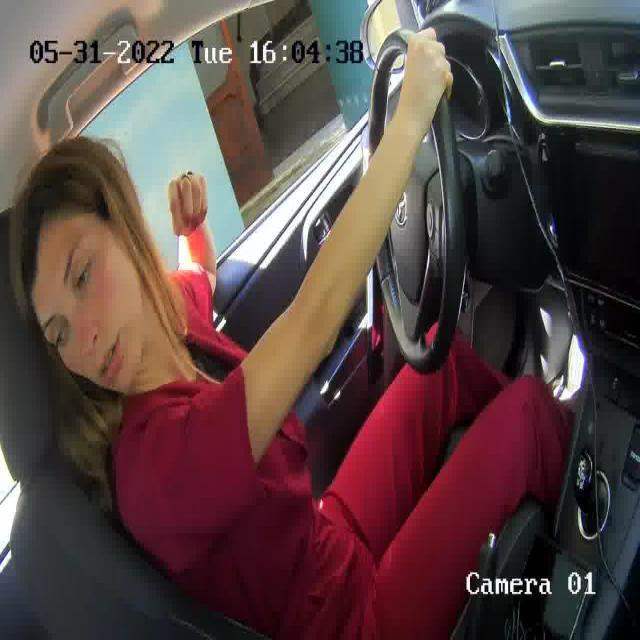Eye-Open: (67, 253, 101, 291), (53, 321, 68, 351)
Inattentive: (15, 134, 154, 393)
Normal: (96, 336, 133, 380)
